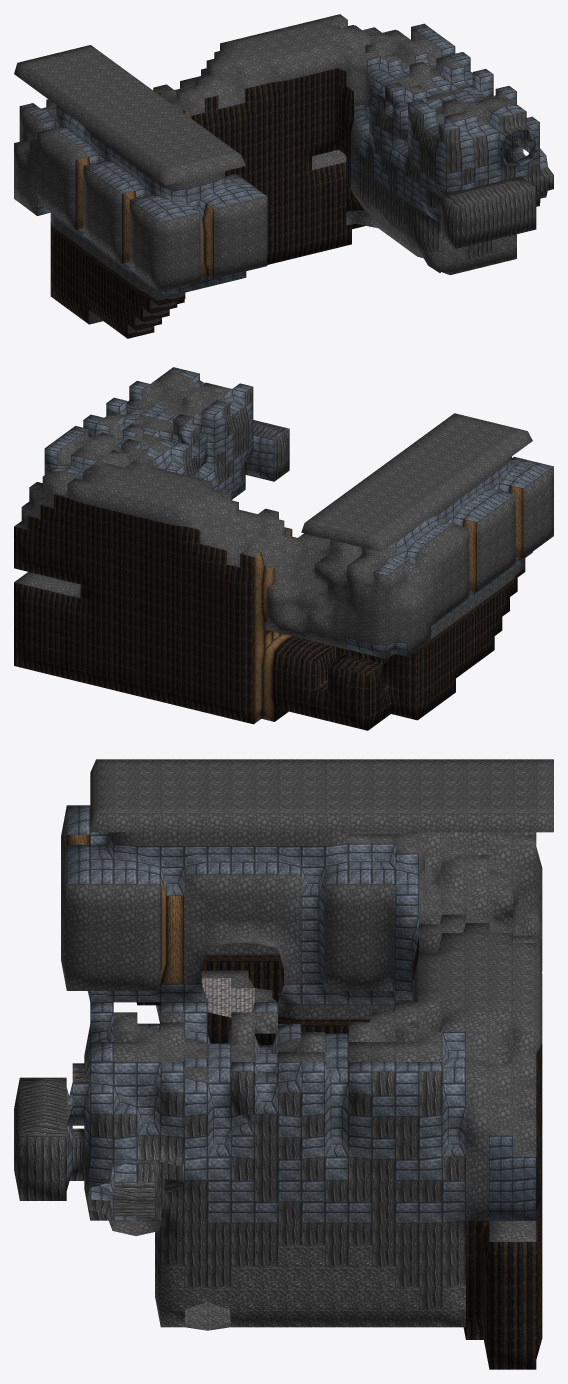
The model's file is 4th Instance LightMap.FBX.
3 renders of one model, top to bottom at view 1: azimuth 30°, elevation 25°; view 2: azimuth 150°, elevation 25°; view 3: azimuth 270°, elevation 25°, orthographic. The views are drawn at different scales.
Visible parts, largest first — view 1: Geometry; view 2: Geometry; view 3: Geometry.
Boxes of the visible parts, x1,y1,x2,y2 form: Geometry: (14, 14, 553, 338); Geometry: (14, 367, 553, 730); Geometry: (14, 759, 553, 1369).
Bounding box in the file's own units: 30.27 × 16 × 23.
